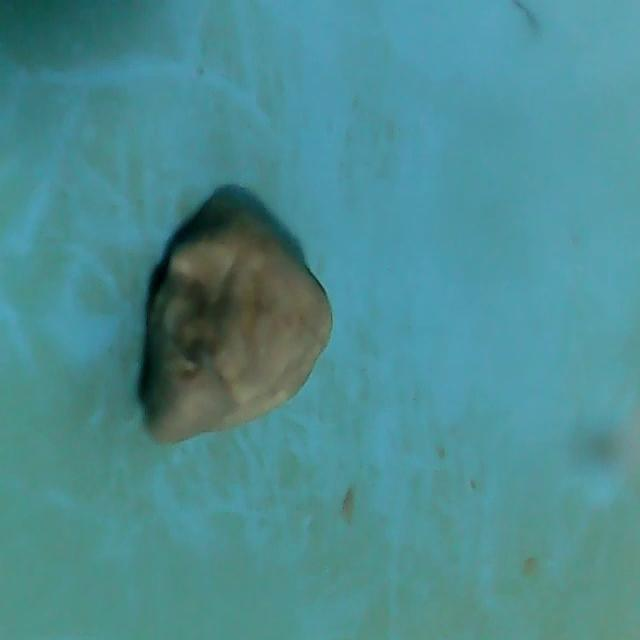rock: (124, 197, 343, 453)
